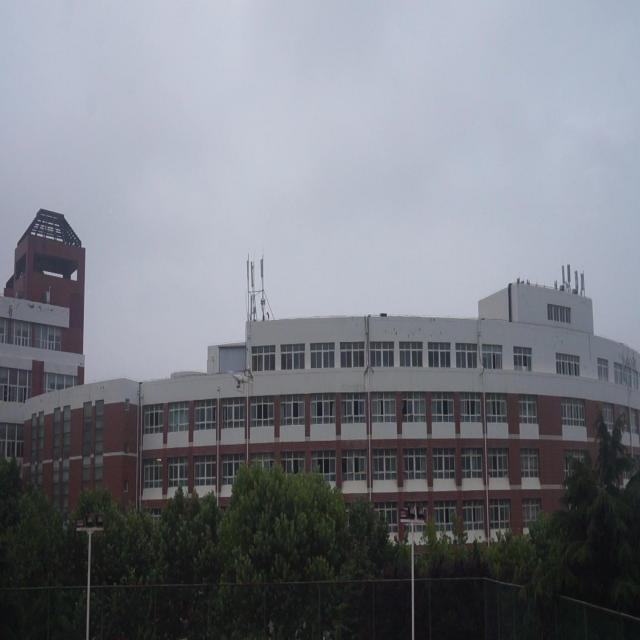UAV: (227, 370, 253, 393)
